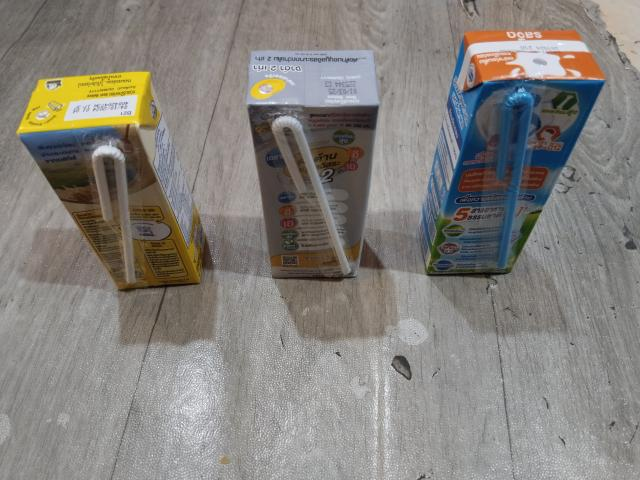drink_box: (411, 21, 613, 281), (9, 63, 223, 303), (245, 42, 378, 291)
